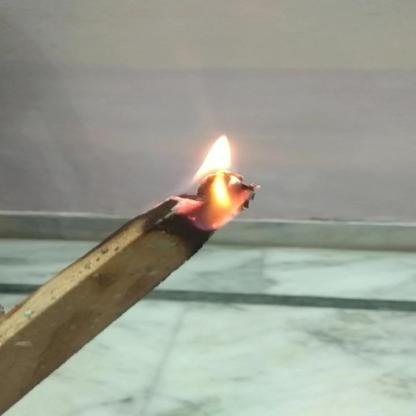fire: (168, 129, 262, 236)
